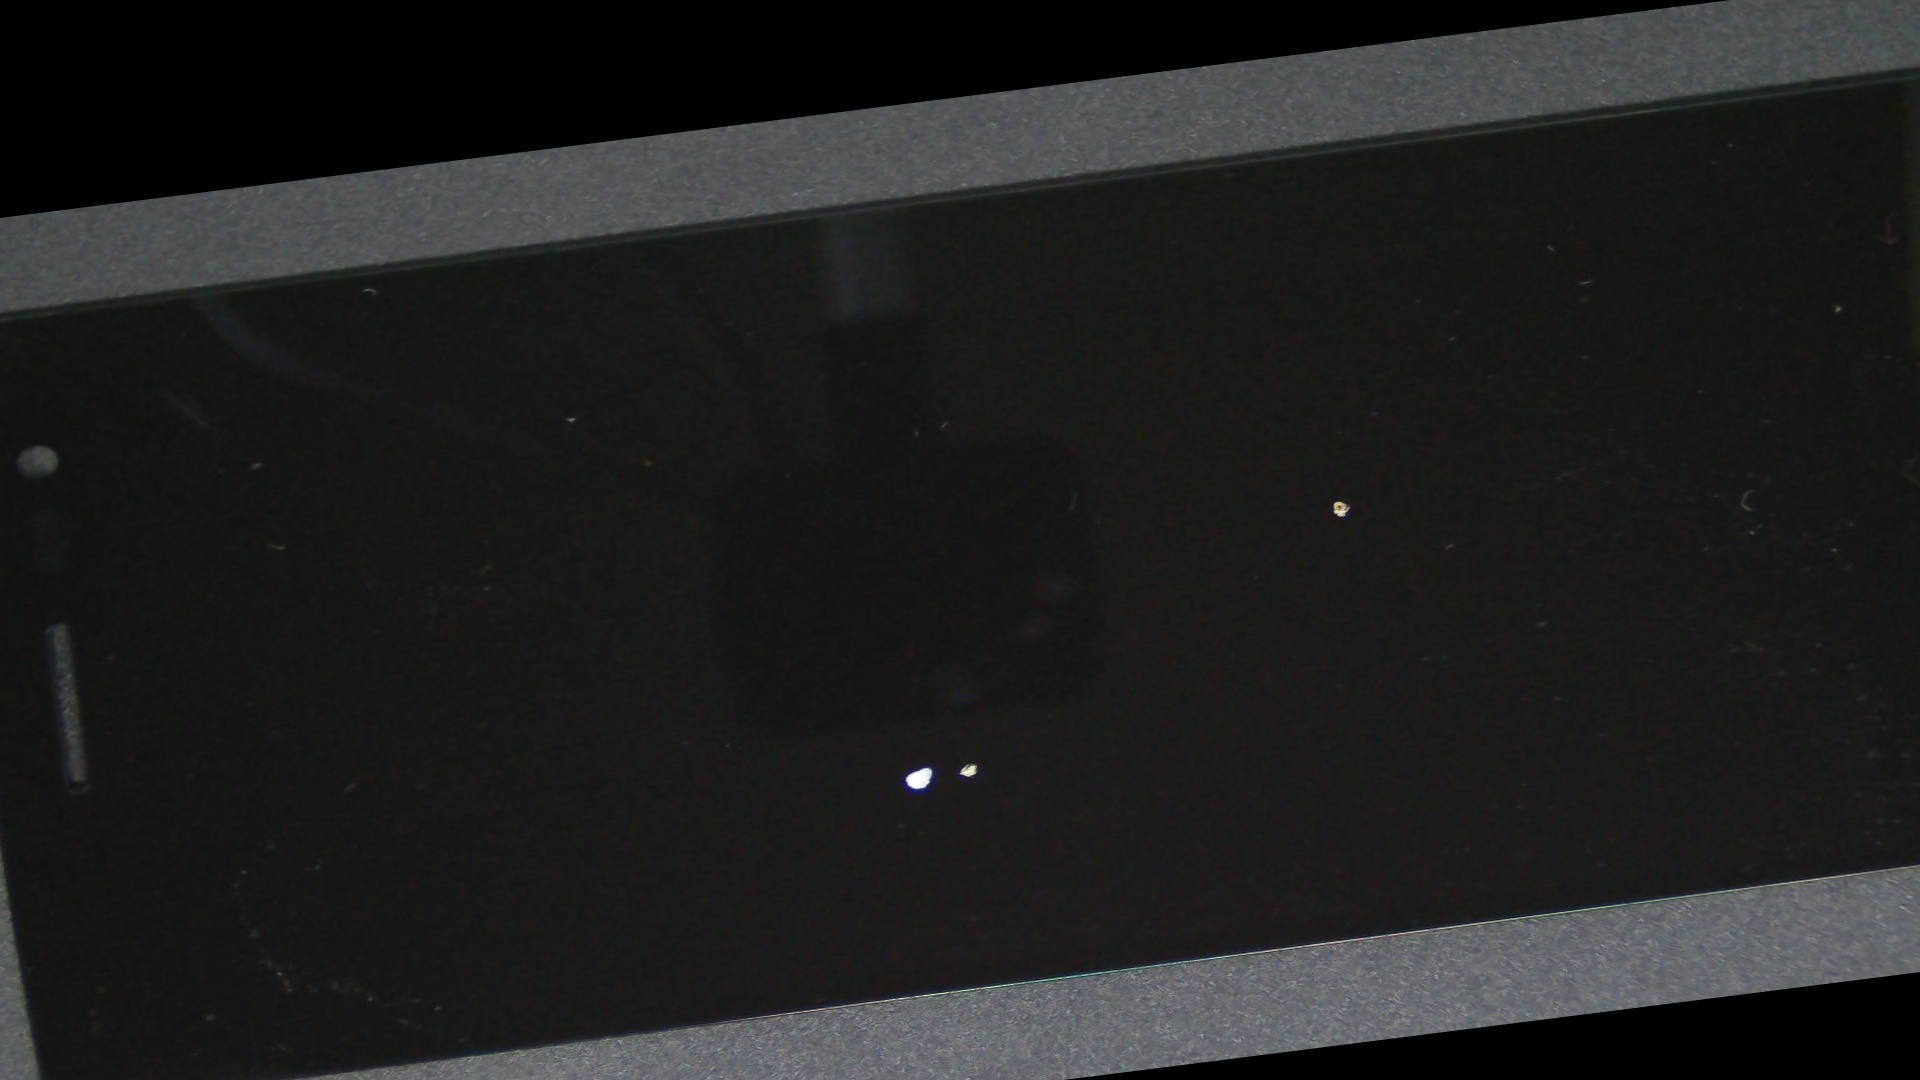oil: (563, 183, 1920, 815), (378, 365, 1557, 1080), (356, 373, 1484, 1080)
